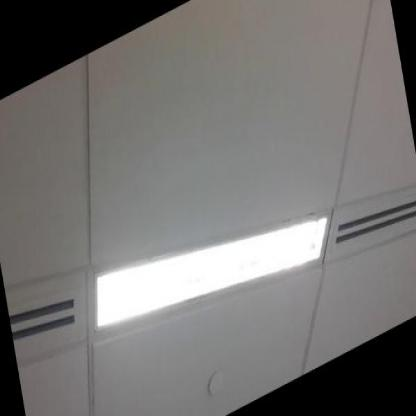light_on: (78, 142, 347, 386)
